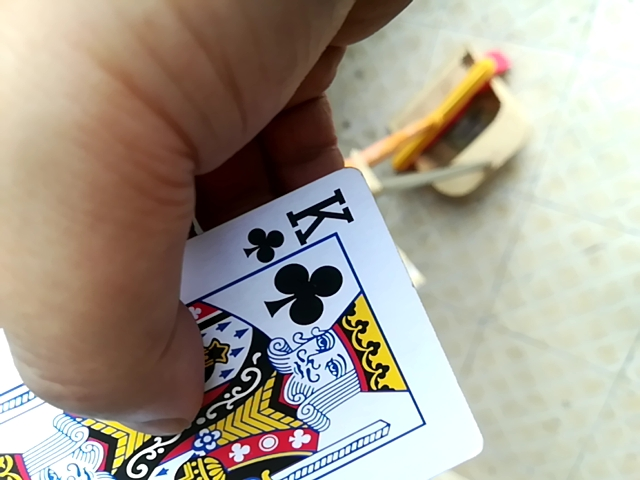mh k: (100, 171, 479, 480)
